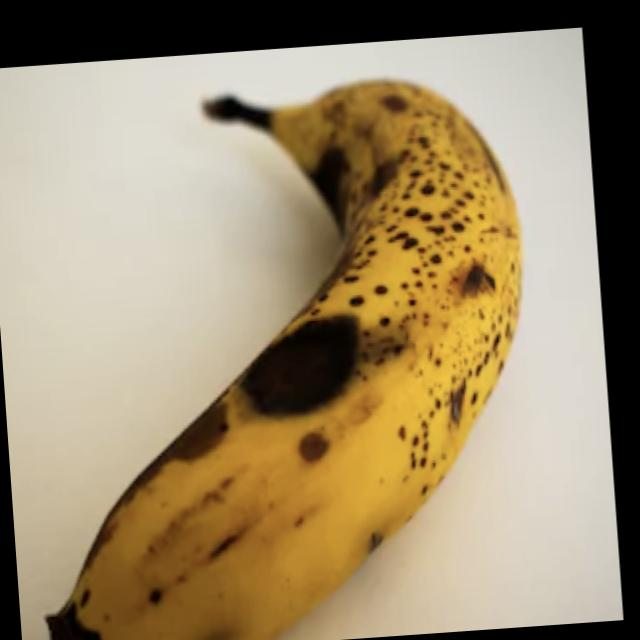banana: (74, 81, 563, 518)
